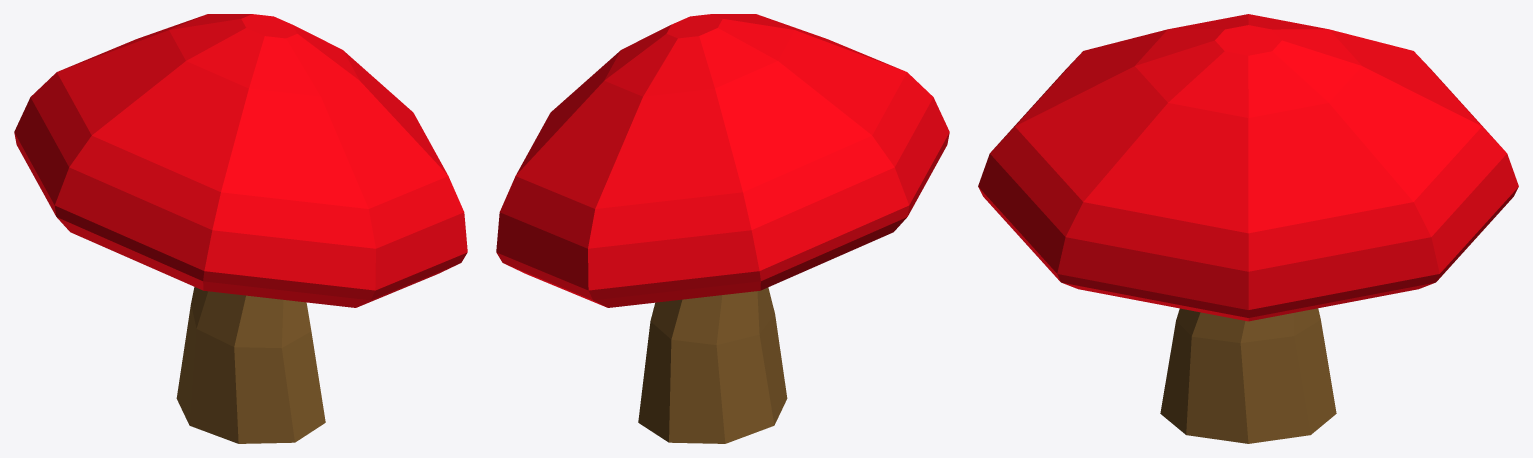
The model's file is TheMushroom.fbx.
3 views of the same model, side by side, from view 1: azimuth 30°, elevation 25°; view 2: azimuth 150°, elevation 25°; view 3: azimuth 270°, elevation 25° (orthographic).
Parts seen in each view (by area): view 1: MushRoom; view 2: MushRoom; view 3: MushRoom.
Boxes of the visible parts, x1,y1,x2,y2 form: MushRoom: (14, 14, 467, 443); MushRoom: (496, 14, 949, 443); MushRoom: (978, 14, 1518, 443).
Size of the model in its own units: 1.02 by 1 by 1.27.
